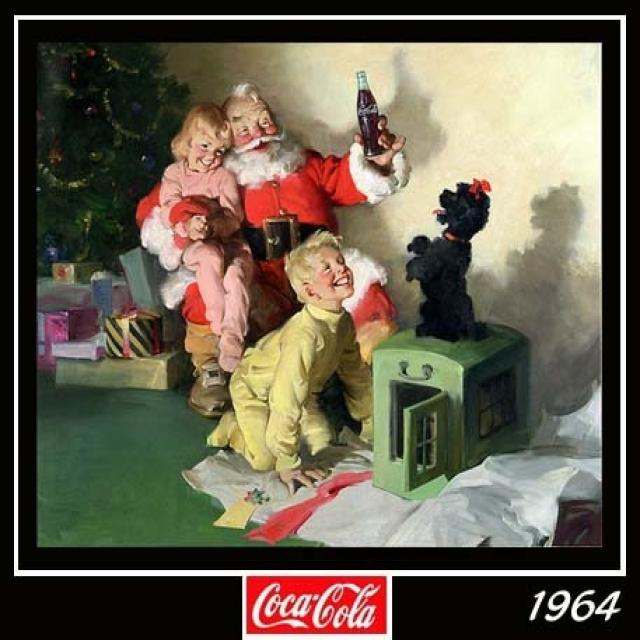cocacola: (248, 579, 391, 640)
